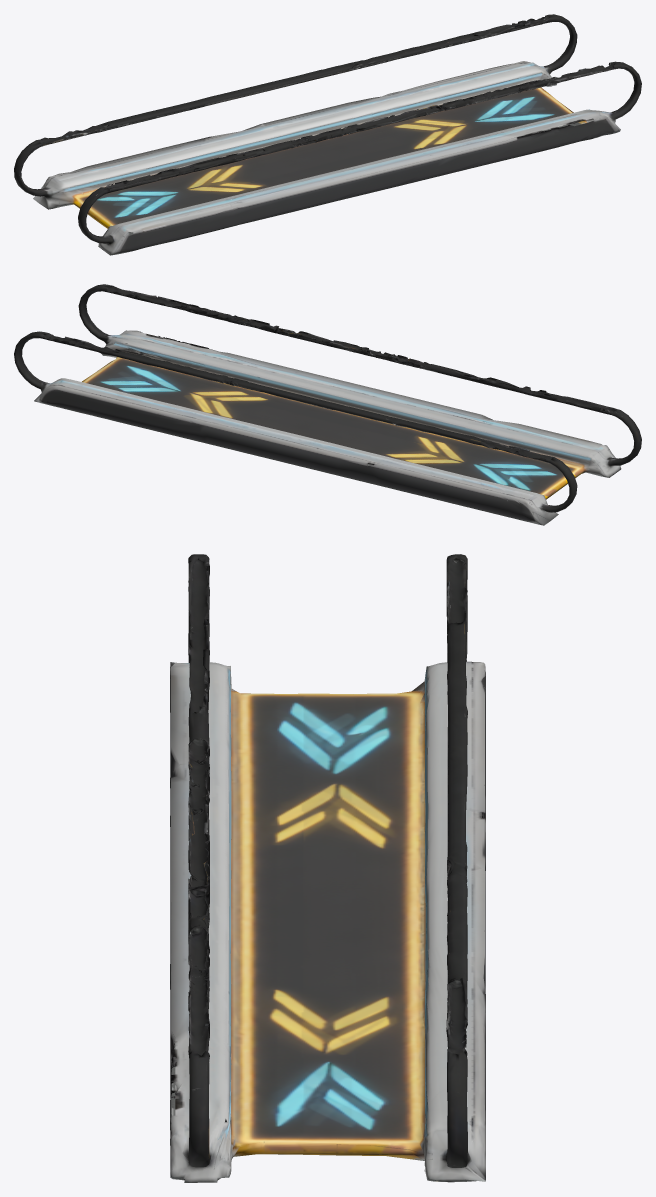
The model's file is Meshy_AI_travelor_0108135059_texture.fbx.
3 views of the same model, one above another, from view 1: azimuth 30°, elevation 25°; view 2: azimuth 150°, elevation 25°; view 3: azimuth 270°, elevation 25° (orthographic). The views are drawn at different scales.
Parts seen in each view (by area): view 1: Mesh0; view 2: Mesh0; view 3: Mesh0.
Part boxes in pixels (box(x1,y1,x2,y2)): Mesh0: box(14, 14, 641, 255); Mesh0: box(14, 284, 641, 525); Mesh0: box(170, 554, 485, 1182).
Bounding box in the file's own units: 191 × 20.98 × 46.63.
1 material, 1 textured.
